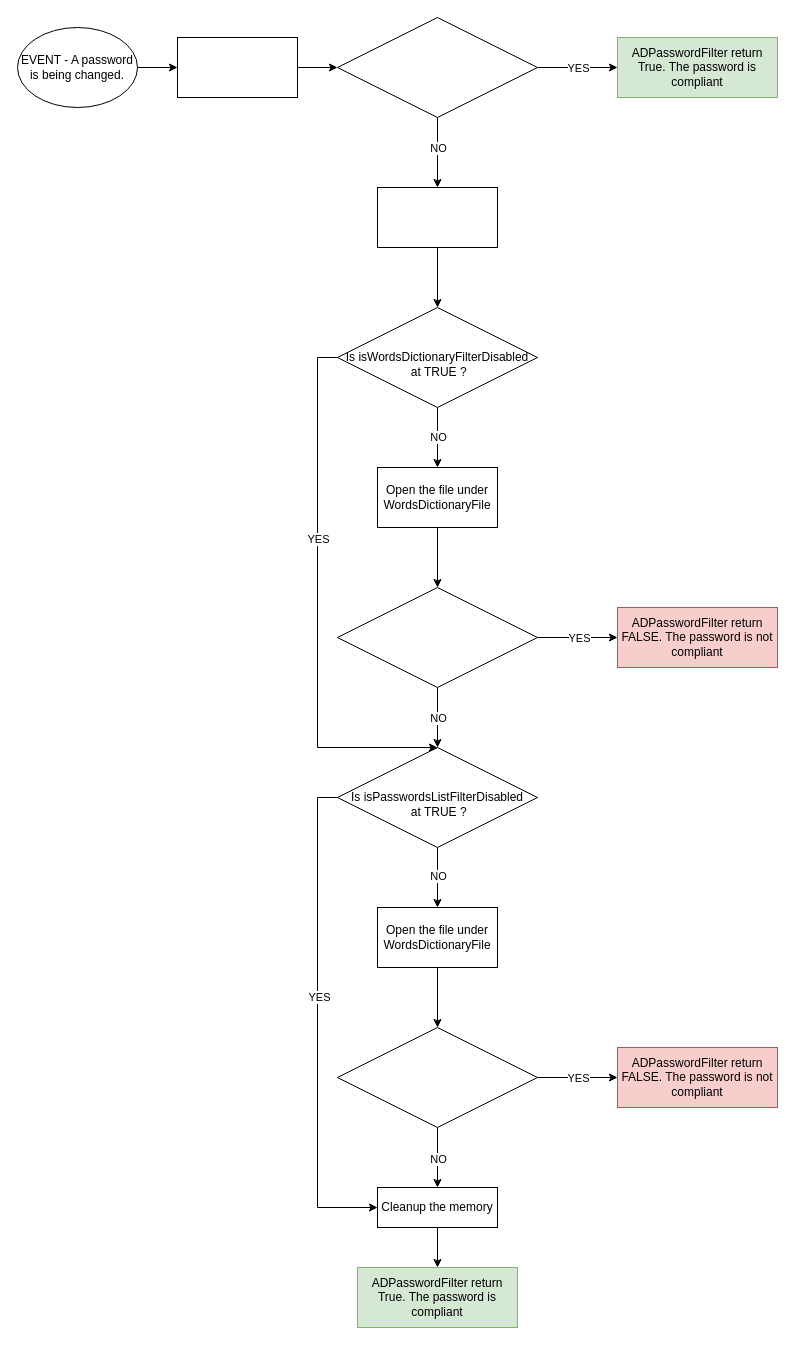
The diagram is 795 pixels wide and 1345 high, and some of its shapes have lost their labels. Here are the shapes that lost their labels. From the top down, the box of each, then its label:
(176, 36, 298, 98): ADPasswordFilter.dll is called
(336, 16, 538, 118): Does the password is forced directly by an administrator ?
(376, 186, 498, 248): Read registry parameters
(336, 586, 538, 688): The password contains a forbidden word ?
(336, 1026, 538, 1128): The password is a prohibited one ?
